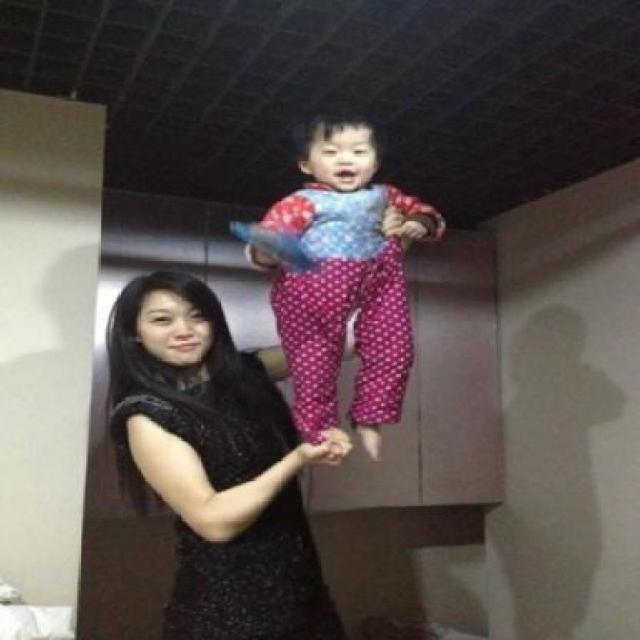Person: (80, 260, 358, 638), (244, 97, 451, 472)
